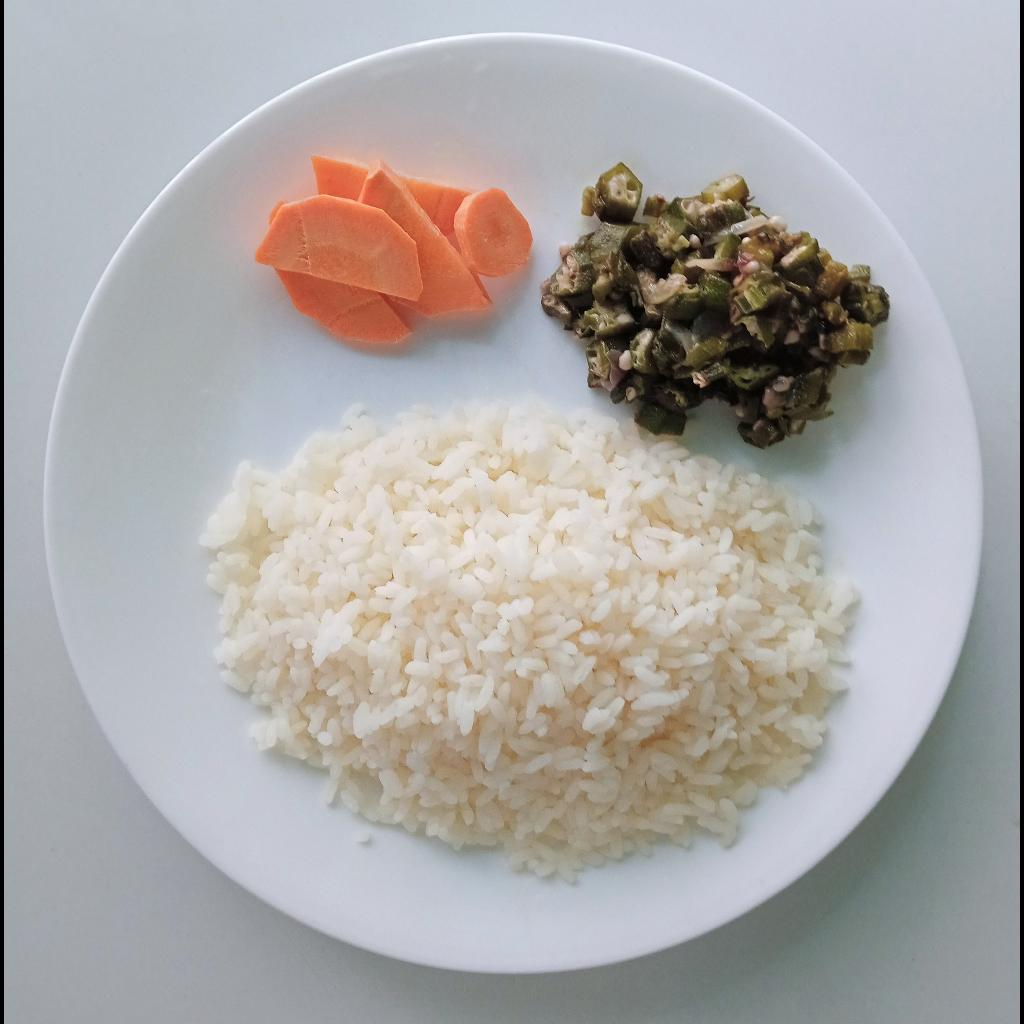carrot: (256, 154, 534, 346)
okra: (538, 164, 889, 449)
rice: (205, 401, 867, 884)
